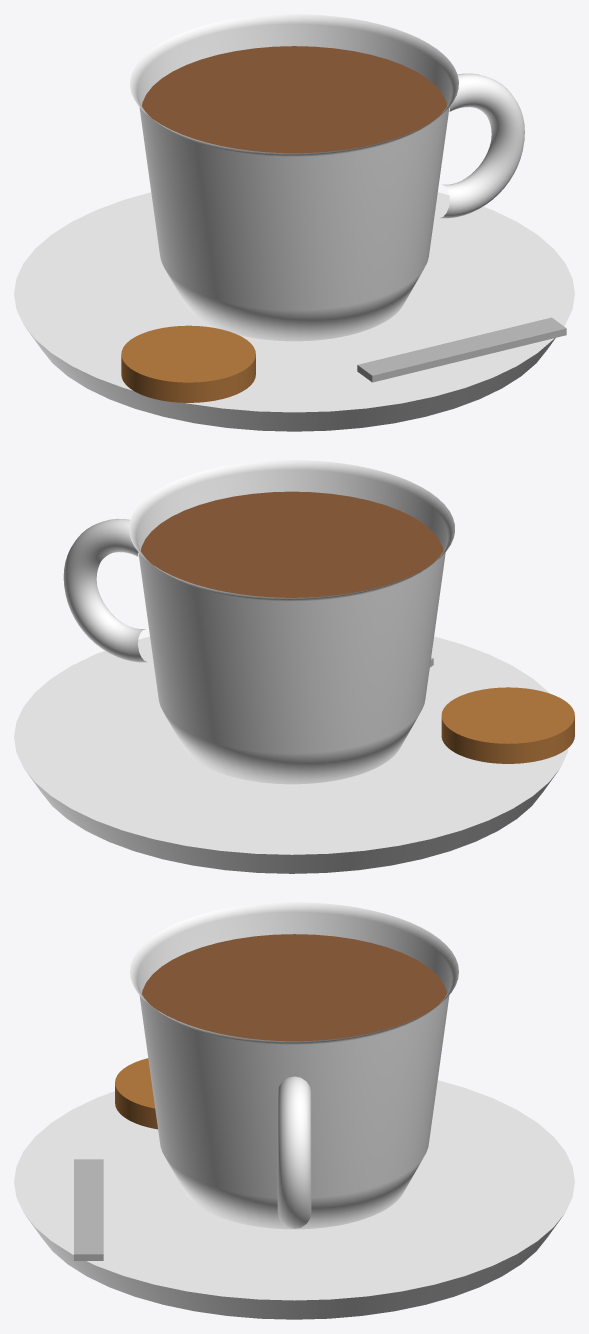
The model's file is cafe.glb.
The picture shows the model from 3 angles, top to bottom: view 1: azimuth 30°, elevation 25°; view 2: azimuth 150°, elevation 25°; view 3: azimuth 270°, elevation 25°; orthographic projection.
Bounding box in the file's own units: 0.15 × 0.07 × 0.15.
